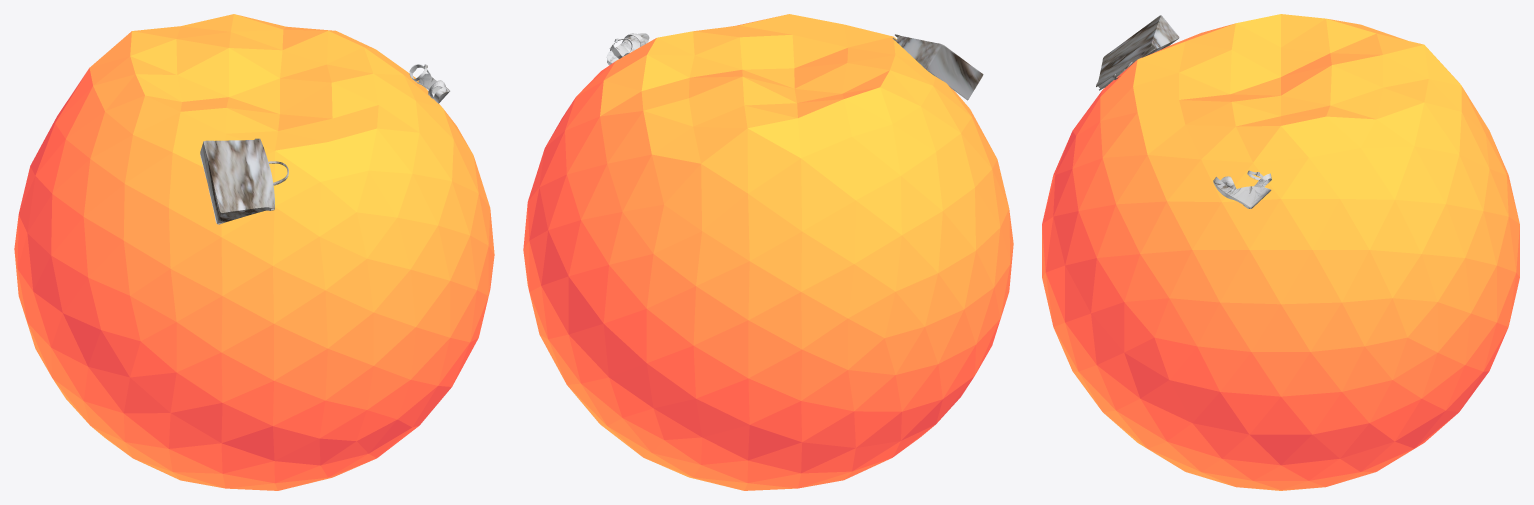
File: Scarf_on_bear14.dae
The picture shows the model from 3 angles, left to right: view 1: azimuth 30°, elevation 25°; view 2: azimuth 150°, elevation 25°; view 3: azimuth 270°, elevation 25°; orthographic projection. The views are drawn at different scales.
Parts seen in each view (by area): view 1: Sphere, bag1, shoe; view 2: Sphere, bag1, shoe; view 3: Sphere, bag1, shoe.
Part boxes in pixels (bbox=[...]): Sphere: bbox=[14, 14, 494, 490]; bag1: bbox=[200, 138, 288, 224]; shoe: bbox=[409, 64, 449, 103]; Sphere: bbox=[523, 14, 1013, 490]; bag1: bbox=[892, 34, 983, 100]; shoe: bbox=[606, 33, 649, 65]; Sphere: bbox=[1042, 14, 1519, 490]; bag1: bbox=[1096, 15, 1179, 90]; shoe: bbox=[1213, 170, 1271, 208].
Bounding box in the file's own units: 394 × 366 × 394.
Materials: 2 (1 with a texture image).
